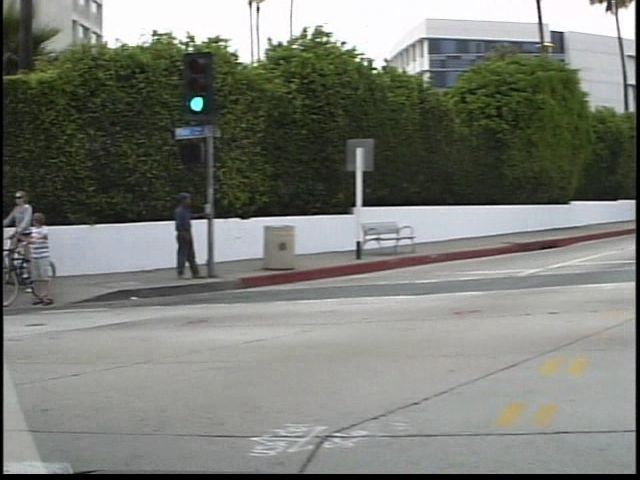person: (3, 182, 40, 308), (165, 188, 206, 290)
